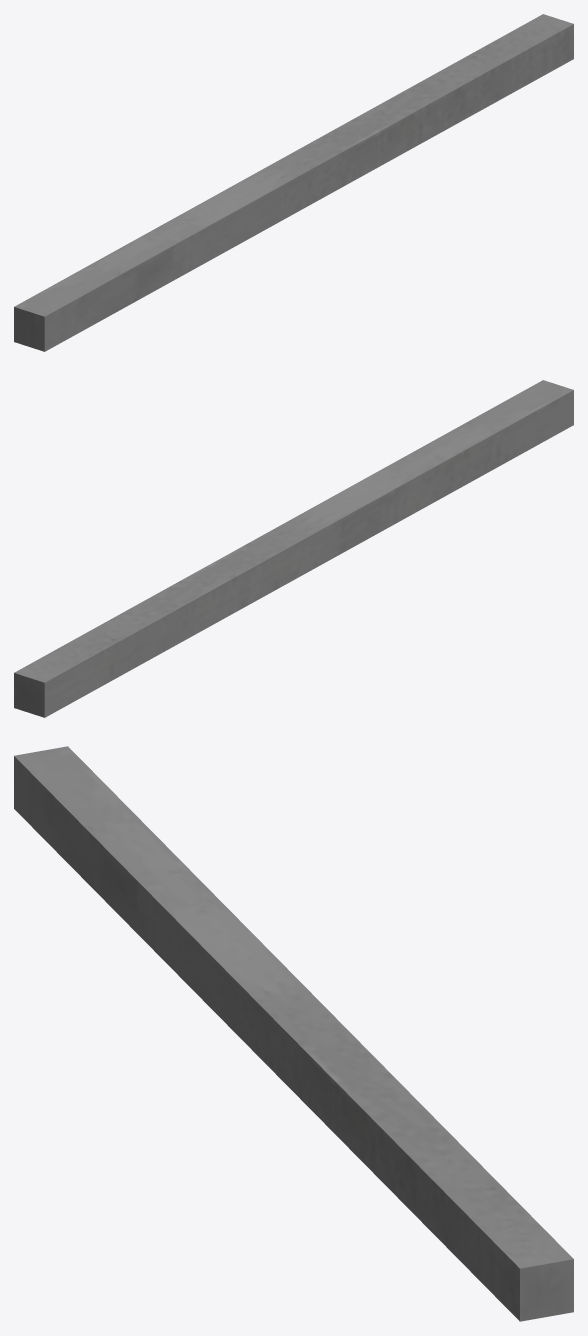
The model's file is base__front_brace_0.glb.
The picture shows the model from 3 angles, top to bottom: view 1: azimuth 30°, elevation 25°; view 2: azimuth 210°, elevation 25°; view 3: azimuth 270°, elevation 25°; orthographic projection. The views are drawn at different scales.
Visible parts, largest first — view 1: world; view 2: world; view 3: world.
Boxes of the visible parts, left/top/right/bottom form: world: left=14, top=14, right=573, bottom=351; world: left=14, top=380, right=573, bottom=717; world: left=14, top=746, right=573, bottom=1321.
Size of the model in its own units: 0.6769 by 0.032 by 0.3066.
Materials: 1 (1 with a texture image).
